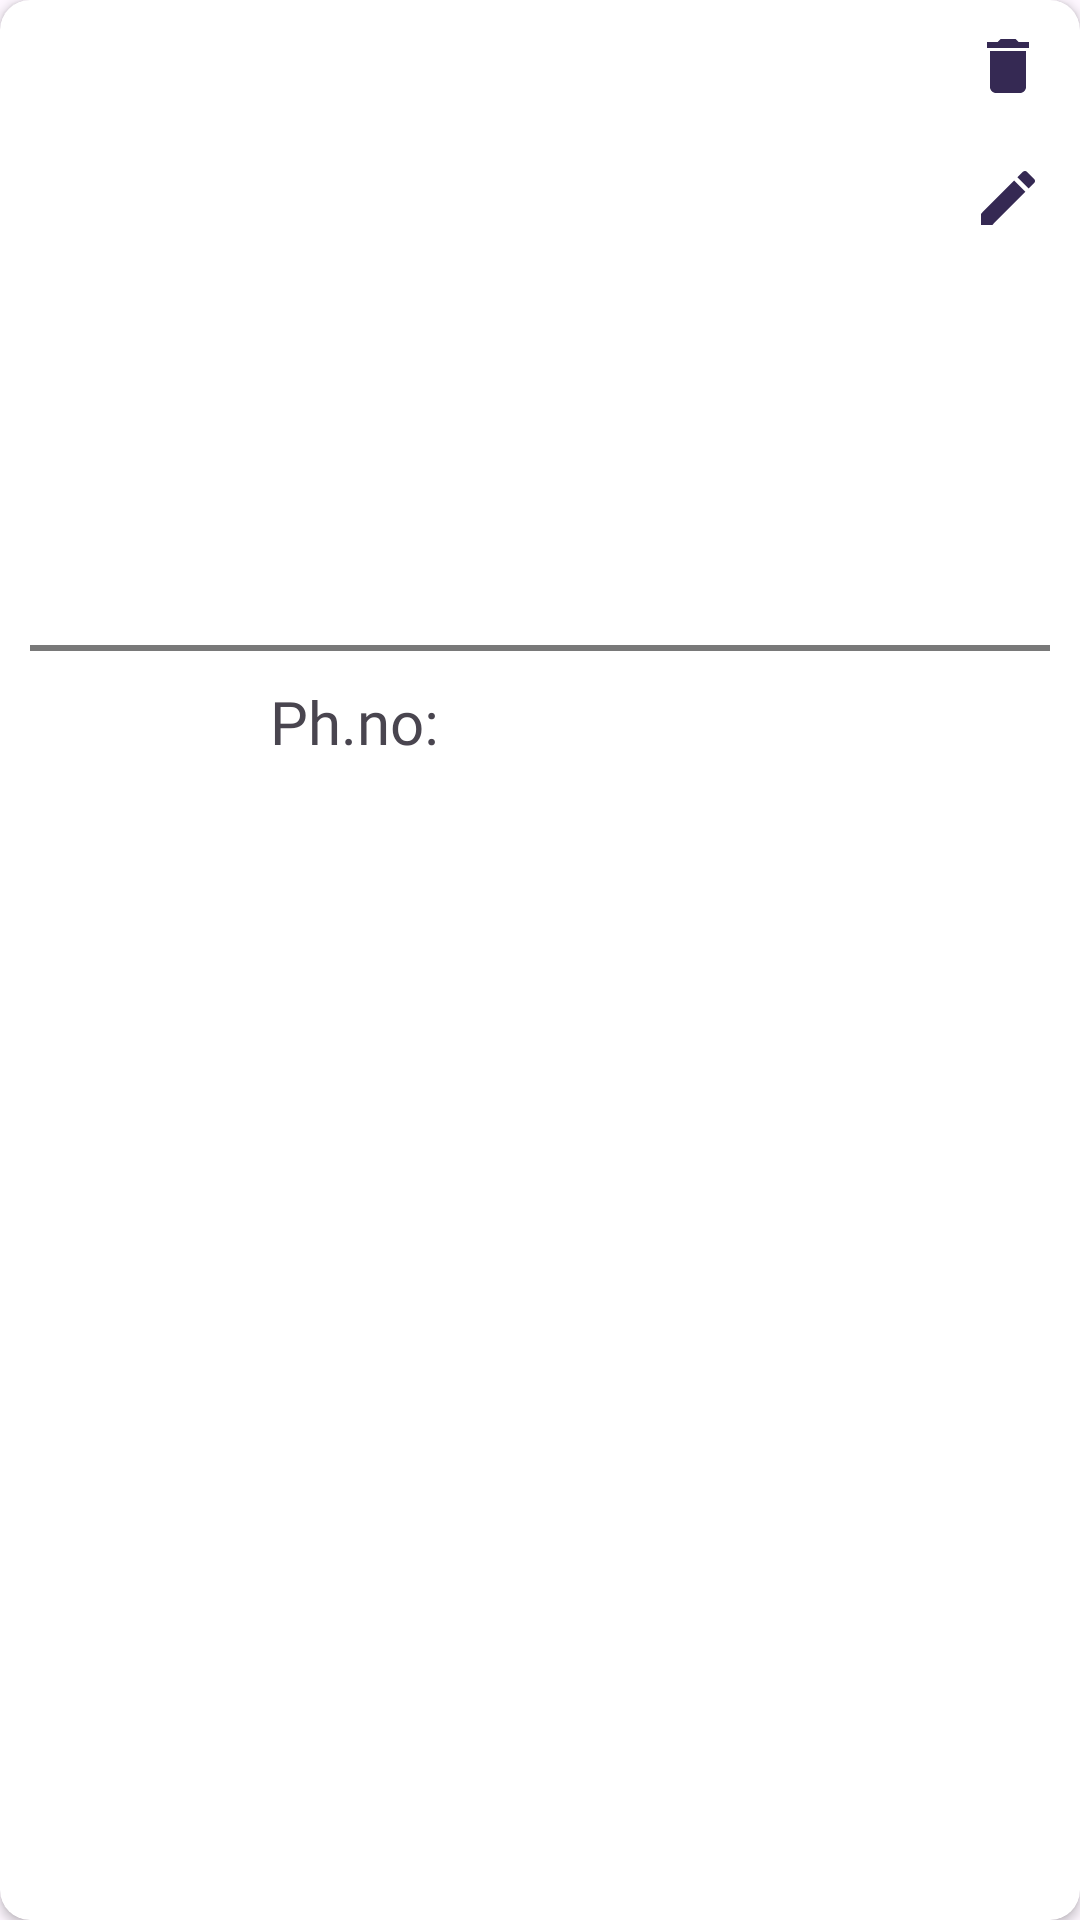

Named icons in this screenshot (1080×1920) and their centers, point (x, y):
edit: point (1008, 198)
